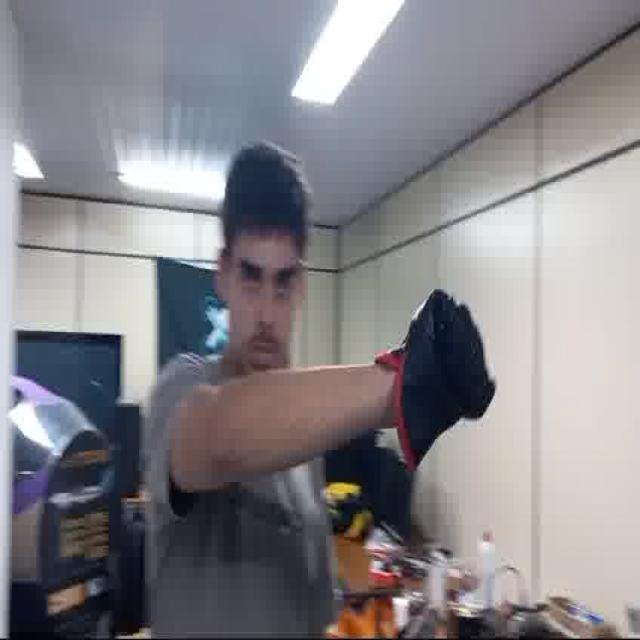Gloves: (372, 285, 496, 468)
